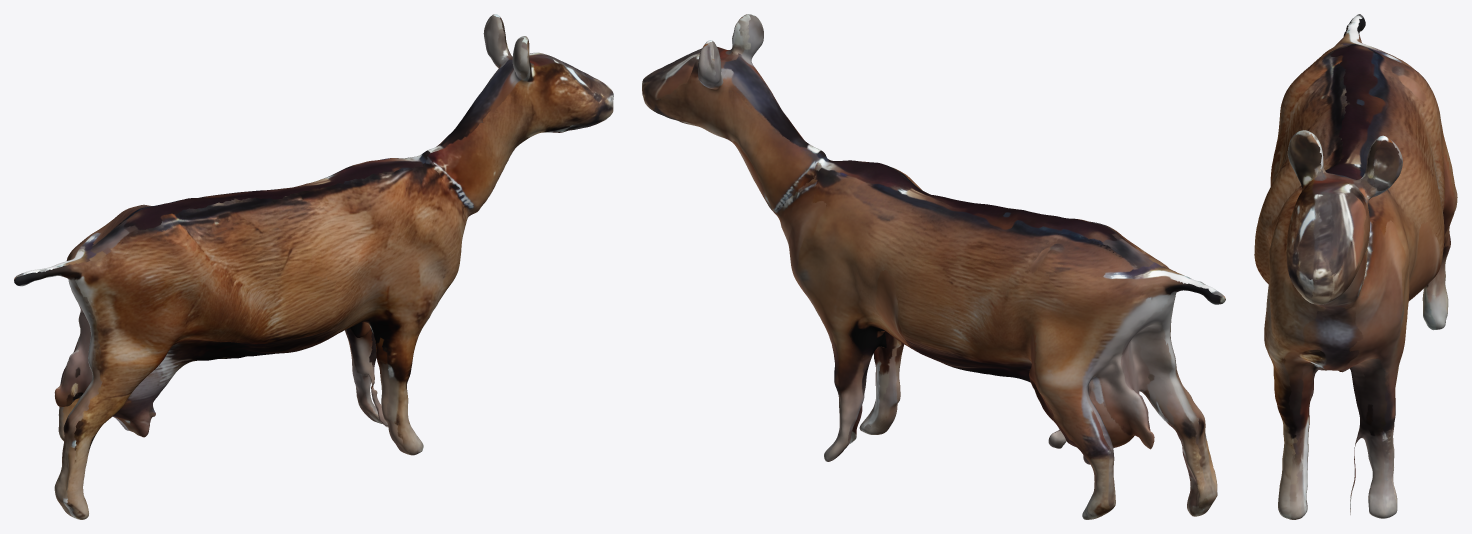
File: adulto.glb
3 views of the same model, side by side, from view 1: azimuth 30°, elevation 25°; view 2: azimuth 150°, elevation 25°; view 3: azimuth 270°, elevation 25° (orthographic). The views are drawn at different scales.
Parts seen in each view (by area): view 1: mesh; view 2: mesh; view 3: mesh.
Boxes of the visible parts, x1,y1,x2,y2 form: mesh: (14,14,613,519); mesh: (642,14,1225,519); mesh: (1254,14,1457,519).
Size of the model in its own units: 1.88 by 1.18 by 0.479.
Materials: 1 (1 with a texture image).
